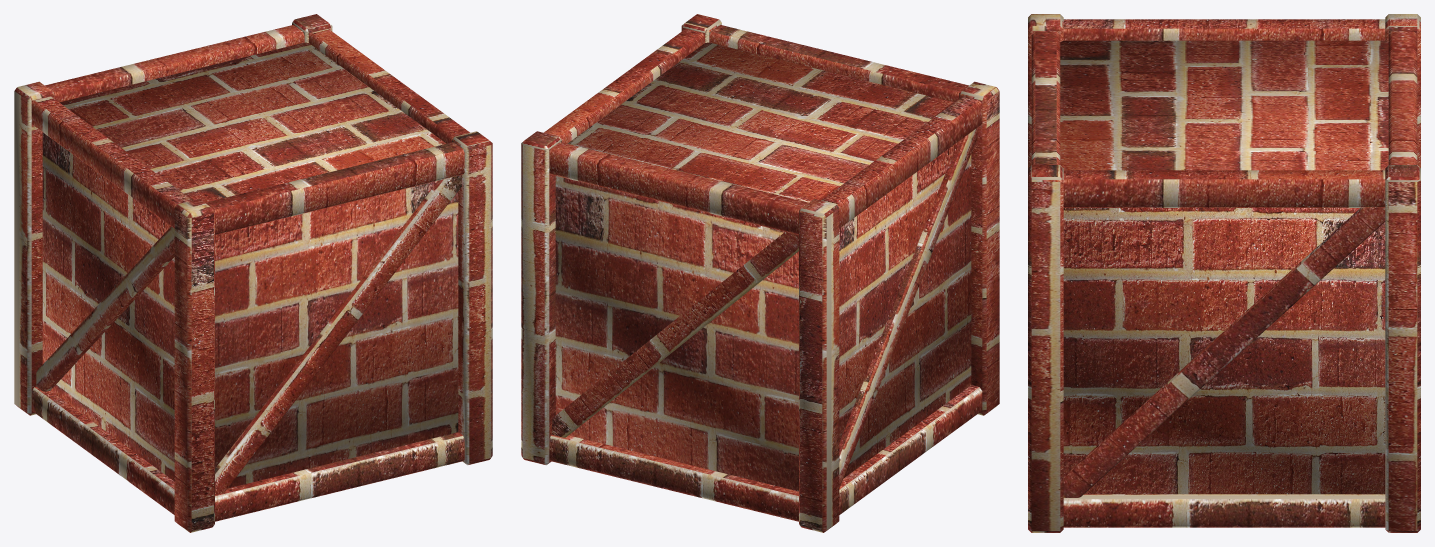
The model's file is BrickedBox02.fbx.
The picture shows the model from 3 angles, left to right: view 1: azimuth 30°, elevation 25°; view 2: azimuth 150°, elevation 25°; view 3: azimuth 270°, elevation 25°; orthographic projection. The views are drawn at different scales.
Parts seen in each view (by area): view 1: WoodenBox; view 2: WoodenBox; view 3: WoodenBox.
Part boxes in pixels (left/top/right/bottom): WoodenBox: left=14, top=14, right=492, bottom=532; WoodenBox: left=521, top=14, right=999, bottom=532; WoodenBox: left=1028, top=14, right=1420, bottom=532.
Size of the model in its own units: 1 by 1 by 1.
Materials: 1 (1 with a texture image).
